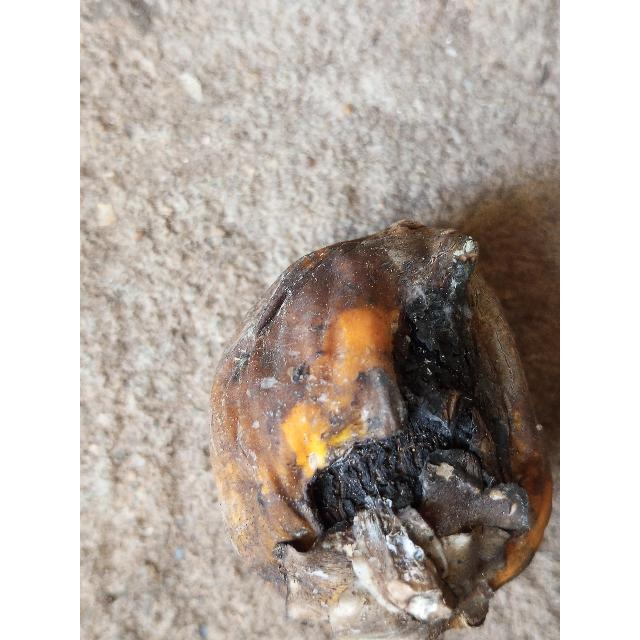damaged: (211, 221, 551, 625)
